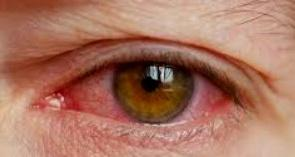eye: (112, 57, 199, 122)
